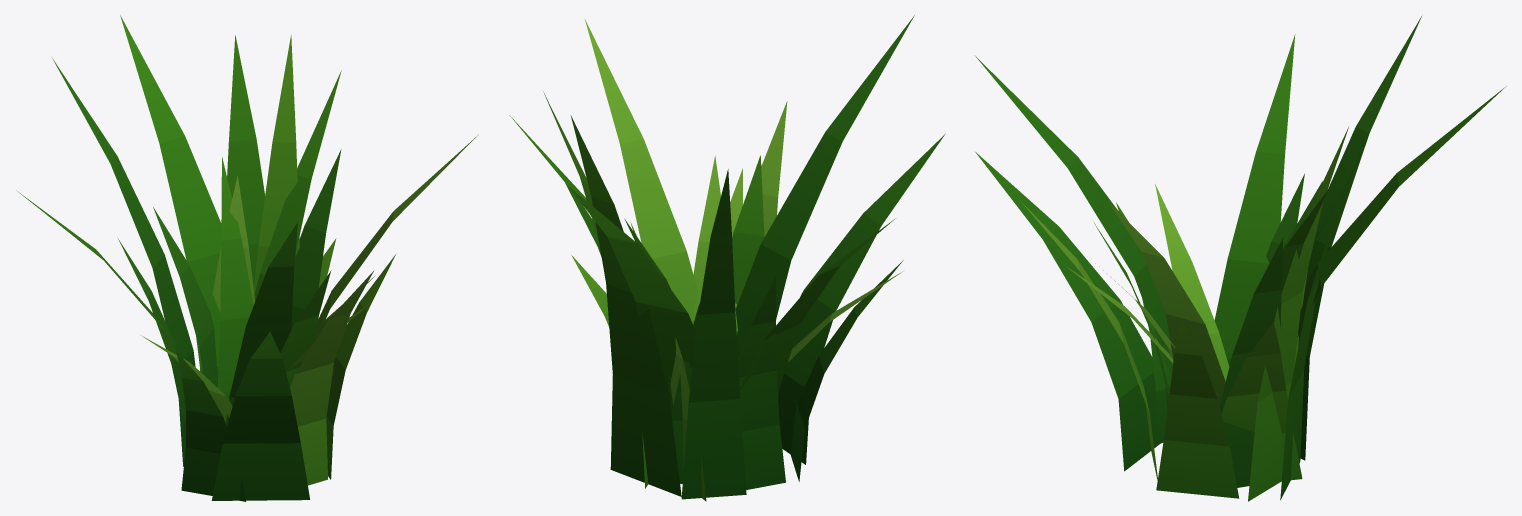
The model's file is ENV_GrassClump.fbx.
3 views of the same model, side by side, from view 1: azimuth 30°, elevation 25°; view 2: azimuth 150°, elevation 25°; view 3: azimuth 270°, elevation 25° (orthographic). The views are drawn at different scales.
Visible parts, largest first — view 1: ENV_GrassClump_Mesh; view 2: ENV_GrassClump_Mesh; view 3: ENV_GrassClump_Mesh.
Part boxes in pixels (<box>): ENV_GrassClump_Mesh: <box>16,15,478,501</box>; ENV_GrassClump_Mesh: <box>509,15,945,501</box>; ENV_GrassClump_Mesh: <box>974,16,1506,501</box>.
Bounding box in the file's own units: 0.6523 × 0.6121 × 0.7482.
